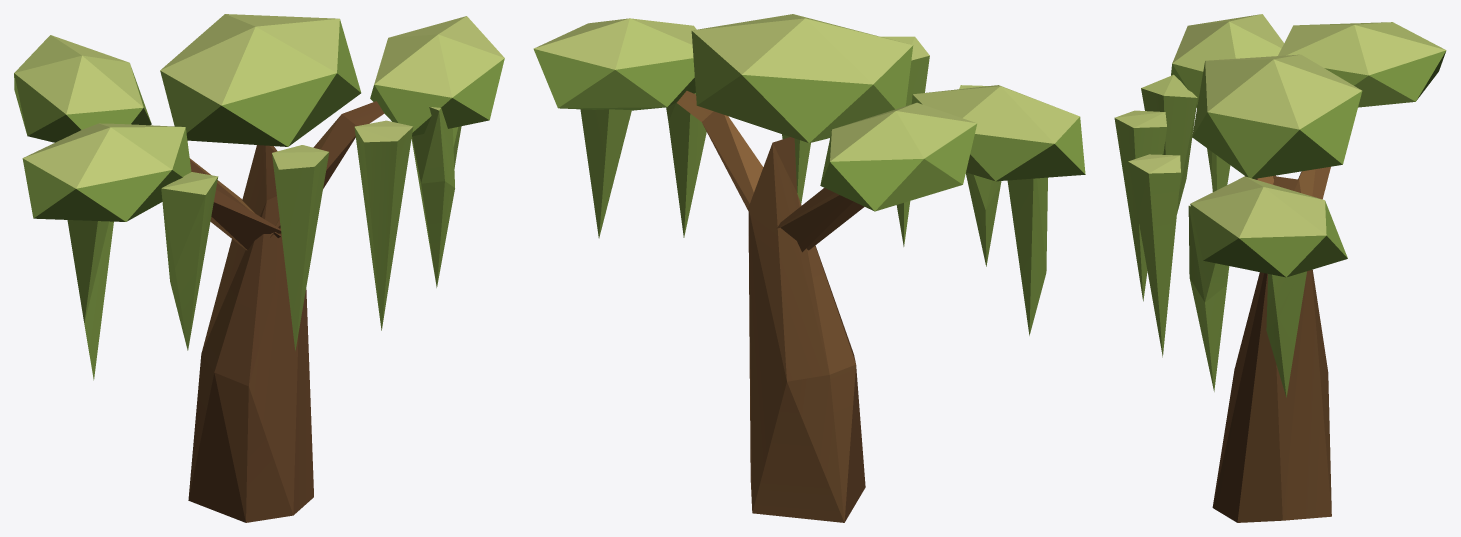
3 views of the same model, side by side, from view 1: azimuth 30°, elevation 25°; view 2: azimuth 150°, elevation 25°; view 3: azimuth 270°, elevation 25° (orthographic). The views are drawn at different scales.
Visible parts, largest first — view 1: WK_Tree_Willow_LemonWeeping_LOD2_Compact; view 2: WK_Tree_Willow_LemonWeeping_LOD2_Compact; view 3: WK_Tree_Willow_LemonWeeping_LOD2_Compact.
Boxes of the visible parts, left/top/right/bottom form: WK_Tree_Willow_LemonWeeping_LOD2_Compact: left=14, top=14, right=504, bottom=522; WK_Tree_Willow_LemonWeeping_LOD2_Compact: left=533, top=14, right=1085, bottom=522; WK_Tree_Willow_LemonWeeping_LOD2_Compact: left=1114, top=14, right=1446, bottom=522.
Size of the model in its own units: 5.65 by 5.16 by 3.45.
